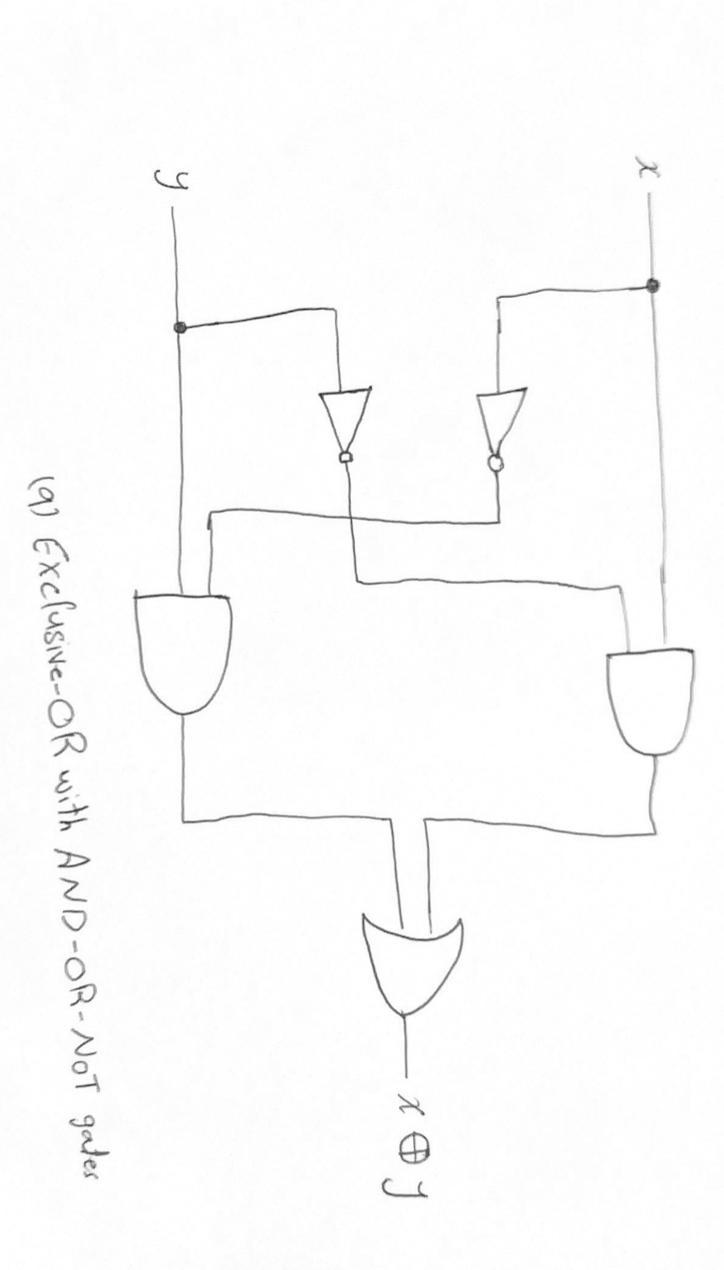AND: (118, 568, 257, 731), (572, 630, 712, 774)
NOT: (452, 380, 559, 484), (292, 368, 388, 477)
OR: (330, 907, 484, 1029)
